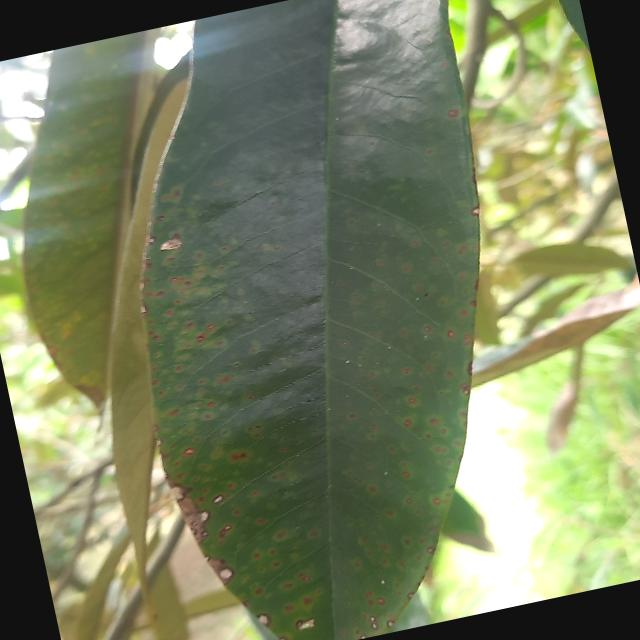Leaf Spot: (68, 0, 586, 639)
